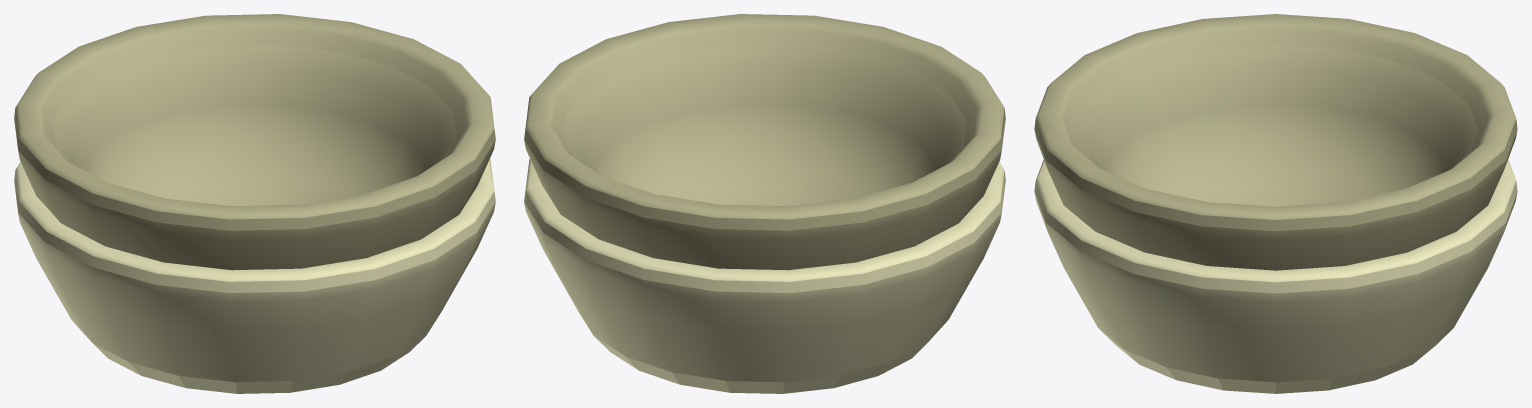
File: plates2.fbx
The picture shows the model from 3 angles, left to right: view 1: azimuth 30°, elevation 25°; view 2: azimuth 150°, elevation 25°; view 3: azimuth 270°, elevation 25°; orthographic projection.
Visible parts, largest first — view 1: pasted__pasted__pasted__pCylinder8; view 2: pasted__pasted__pasted__pCylinder8; view 3: pasted__pasted__pasted__pCylinder8.
Boxes of the visible parts, <box> form: pasted__pasted__pasted__pCylinder8: <box>14,14,495,393</box>; pasted__pasted__pasted__pCylinder8: <box>524,14,1005,393</box>; pasted__pasted__pasted__pCylinder8: <box>1034,14,1517,393</box>.
Size of the model in its own units: 5.29 by 2.52 by 5.29.
